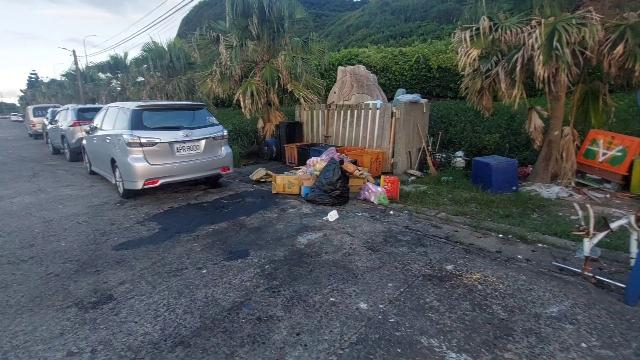pollute: (248, 140, 402, 209), (521, 128, 639, 202), (572, 202, 639, 264), (472, 154, 533, 194), (322, 210, 339, 220)
